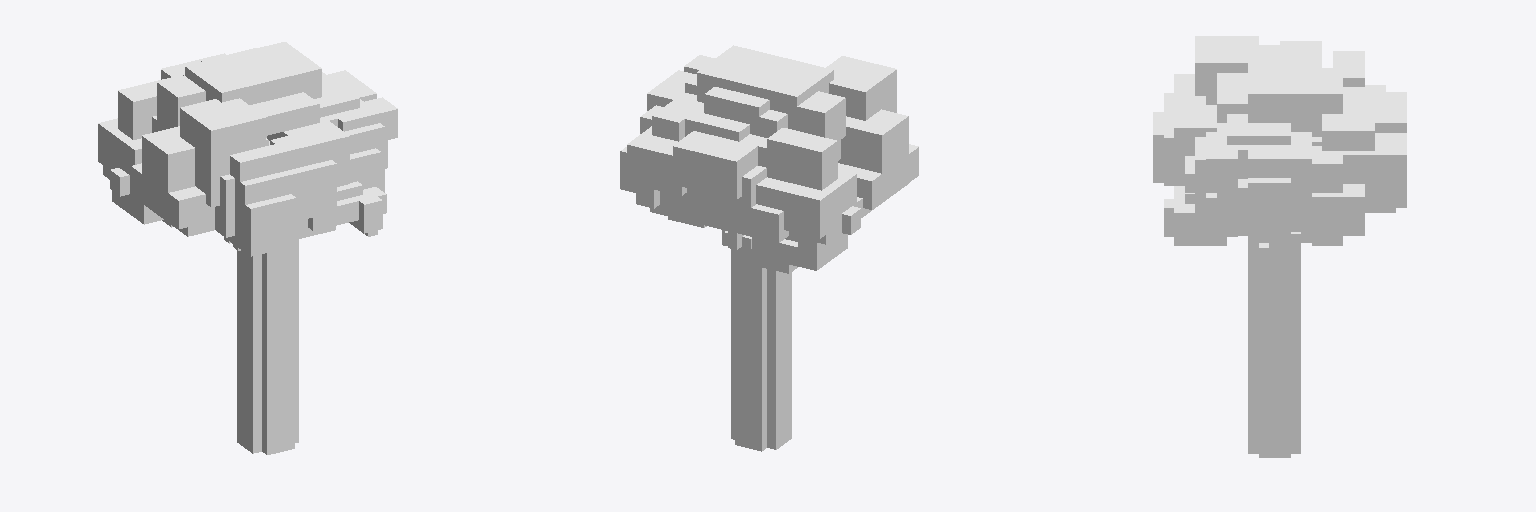
Rendered from gglive_tree2.obj.
The picture shows the model from 3 angles: view 1: azimuth 30°, elevation 25°; view 2: azimuth 150°, elevation 25°; view 3: azimuth 270°, elevation 25°; orthographic projection.
Visible parts, largest first — view 1: gglive_tree2; view 2: gglive_tree2; view 3: gglive_tree2.
Part boxes in pixels (x1,y1,x2,y2): gglive_tree2: (98, 42, 397, 454); gglive_tree2: (620, 45, 918, 451); gglive_tree2: (1153, 36, 1406, 457).
Size of the model in its own units: 25 by 39 by 24.